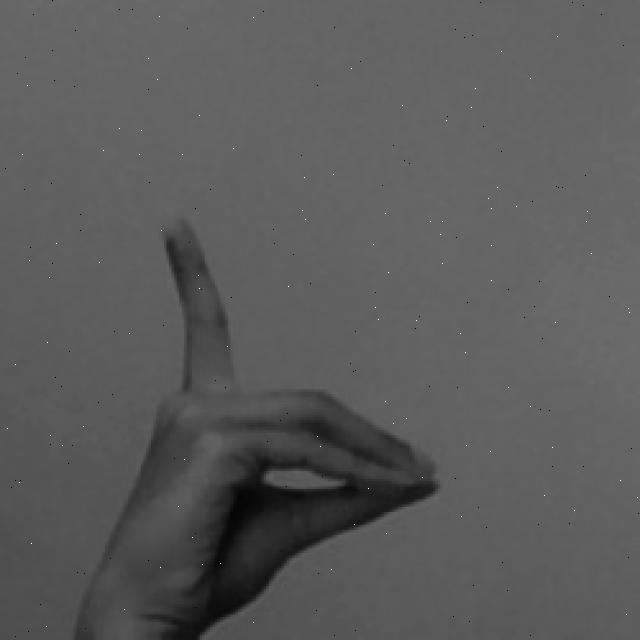D: (75, 216, 446, 640)
